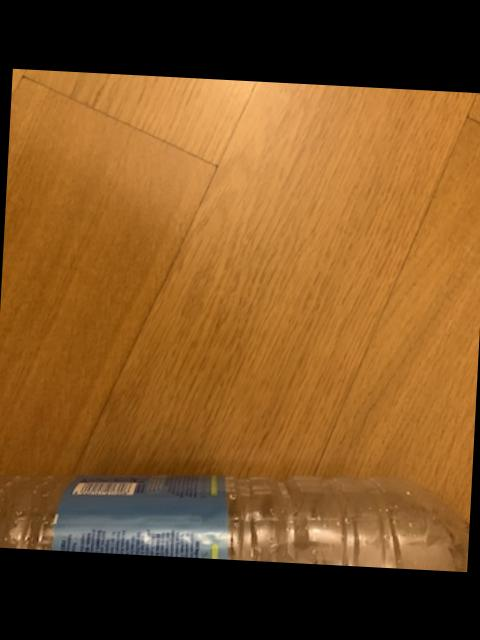plastic: (0, 473, 470, 572)
